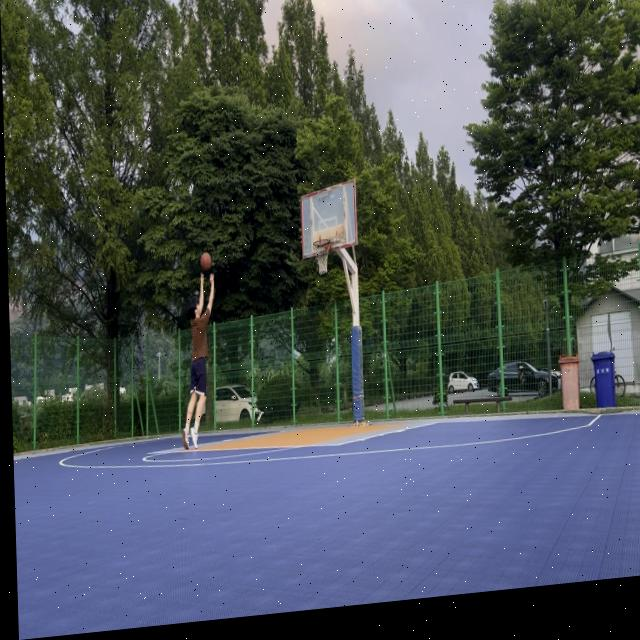basketball: (200, 251, 212, 272)
hoop: (313, 238, 332, 277)
